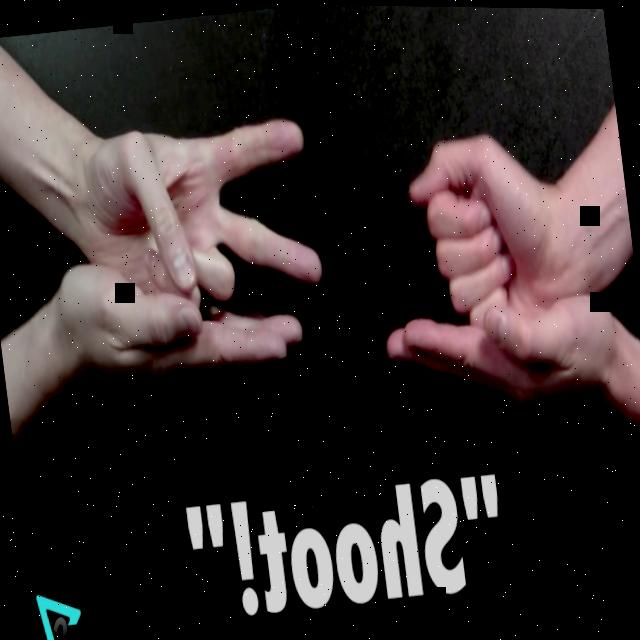Rock: (400, 121, 568, 338)
Scissors: (59, 103, 326, 326)
